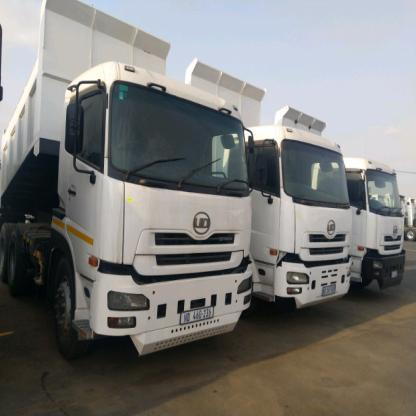dump_truck: (5, 14, 257, 366), (254, 101, 350, 322), (350, 140, 415, 296)
